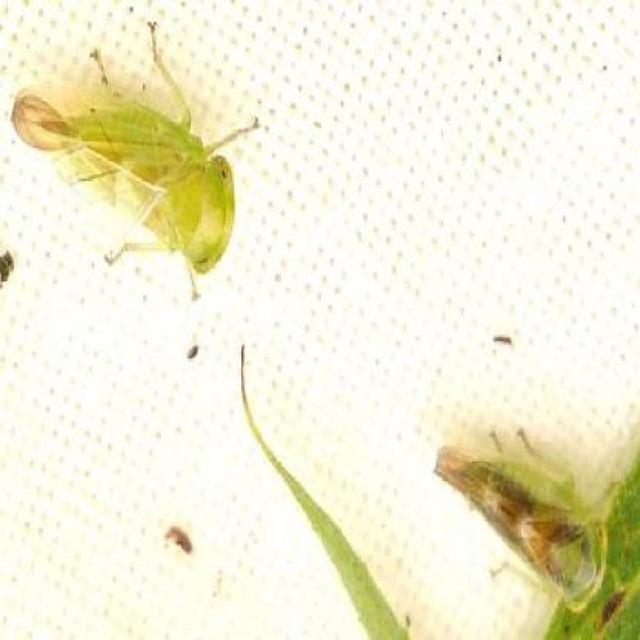green-leafhopper: (15, 31, 238, 295), (430, 418, 608, 617)
